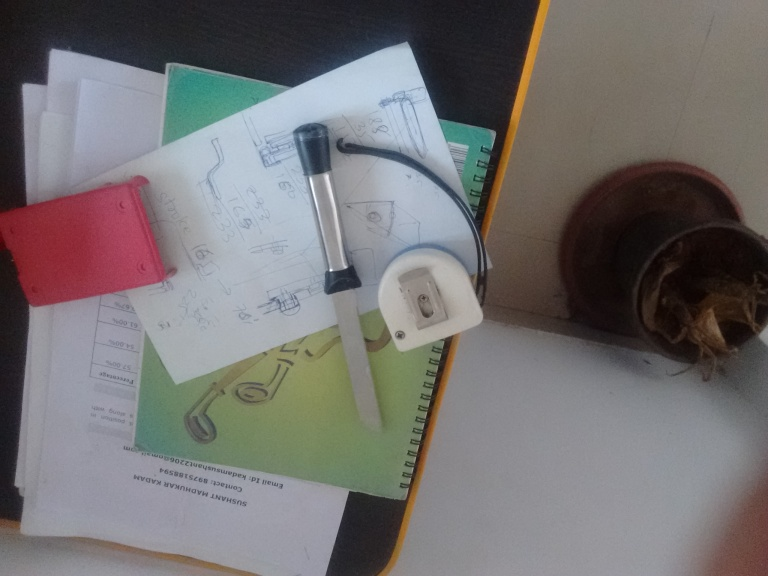knife: (291, 121, 384, 431)
